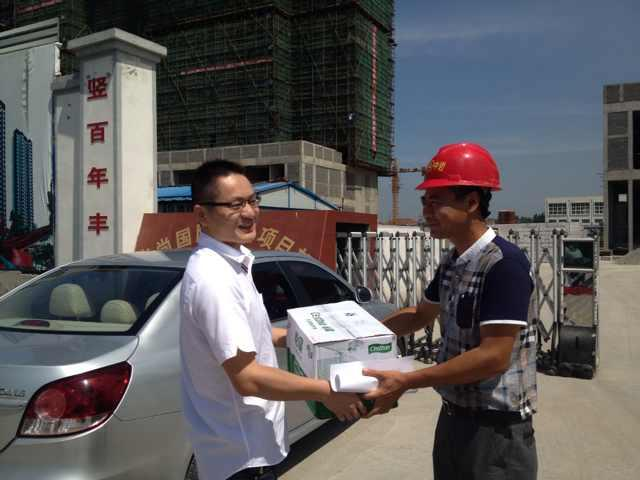helmet: (416, 143, 506, 194)
